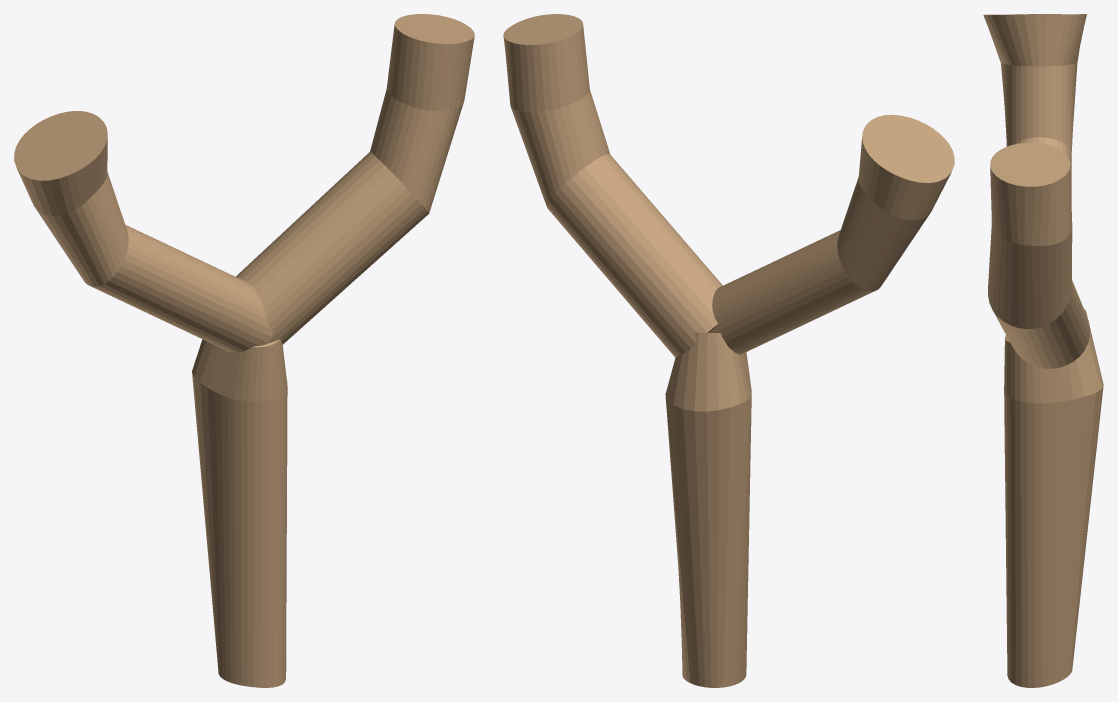
The model's file is slingshot.glb.
3 renders of one model, left to right at view 1: azimuth 30°, elevation 25°; view 2: azimuth 150°, elevation 25°; view 3: azimuth 270°, elevation 25°, orthographic. The views are drawn at different scales.
Bounding box in the file's own units: 5.93 × 7.85 × 1.42.
